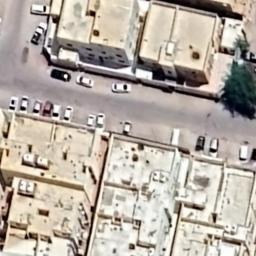SUV: (26, 0, 54, 18), (207, 135, 220, 161), (238, 141, 250, 165)
pickup: (32, 20, 48, 47)
sedan: (48, 66, 72, 86), (71, 74, 97, 90), (192, 133, 208, 157), (108, 81, 134, 94), (94, 111, 106, 133), (17, 96, 31, 114), (62, 105, 74, 125), (120, 120, 133, 138), (31, 96, 41, 118), (42, 98, 52, 119), (8, 94, 18, 114), (52, 104, 62, 124), (86, 112, 96, 130)
